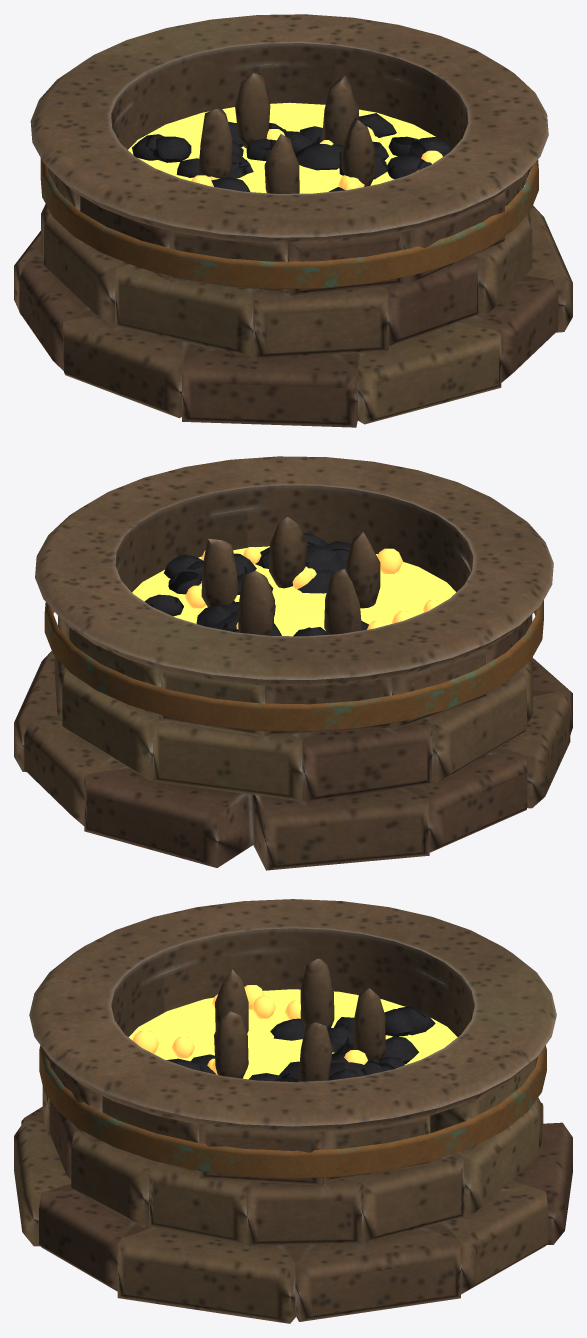
The model's file is Incubatrice.fbx.
3 renders of one model, top to bottom at view 1: azimuth 30°, elevation 25°; view 2: azimuth 150°, elevation 25°; view 3: azimuth 270°, elevation 25°, orthographic.
Parts seen in each view (by area): view 1: Incubatrice_Pietra, Incubatrice_Bronzo, Incubatrice_Sassi, Incubatrice_Braci; view 2: Incubatrice_Pietra, Incubatrice_Bronzo, Incubatrice_Braci, Incubatrice_Sassi; view 3: Incubatrice_Pietra, Incubatrice_Bronzo, Incubatrice_Braci, Incubatrice_Sassi.
Part boxes in pixels (x1=…): Incubatrice_Pietra: x1=14, y1=14, x2=572, y2=427; Incubatrice_Bronzo: x1=40, y1=158, x2=538, y2=289; Incubatrice_Sassi: x1=132, y1=113, x2=451, y2=191; Incubatrice_Braci: x1=128, y1=102, x2=442, y2=193; Incubatrice_Pietra: x1=14, y1=456, x2=572, y2=870; Incubatrice_Bronzo: x1=44, y1=600, x2=543, y2=731; Incubatrice_Braci: x1=132, y1=546, x2=456, y2=636; Incubatrice_Sassi: x1=144, y1=532, x2=368, y2=636; Incubatrice_Pietra: x1=14, y1=899, x2=572, y2=1323; Incubatrice_Bronzo: x1=39, y1=1045, x2=546, y2=1178; Incubatrice_Braci: x1=128, y1=985, x2=457, y2=1079; Incubatrice_Sassi: x1=166, y1=1006, x2=435, y2=1081.
Size of the model in its own units: 312 by 132 by 307.
